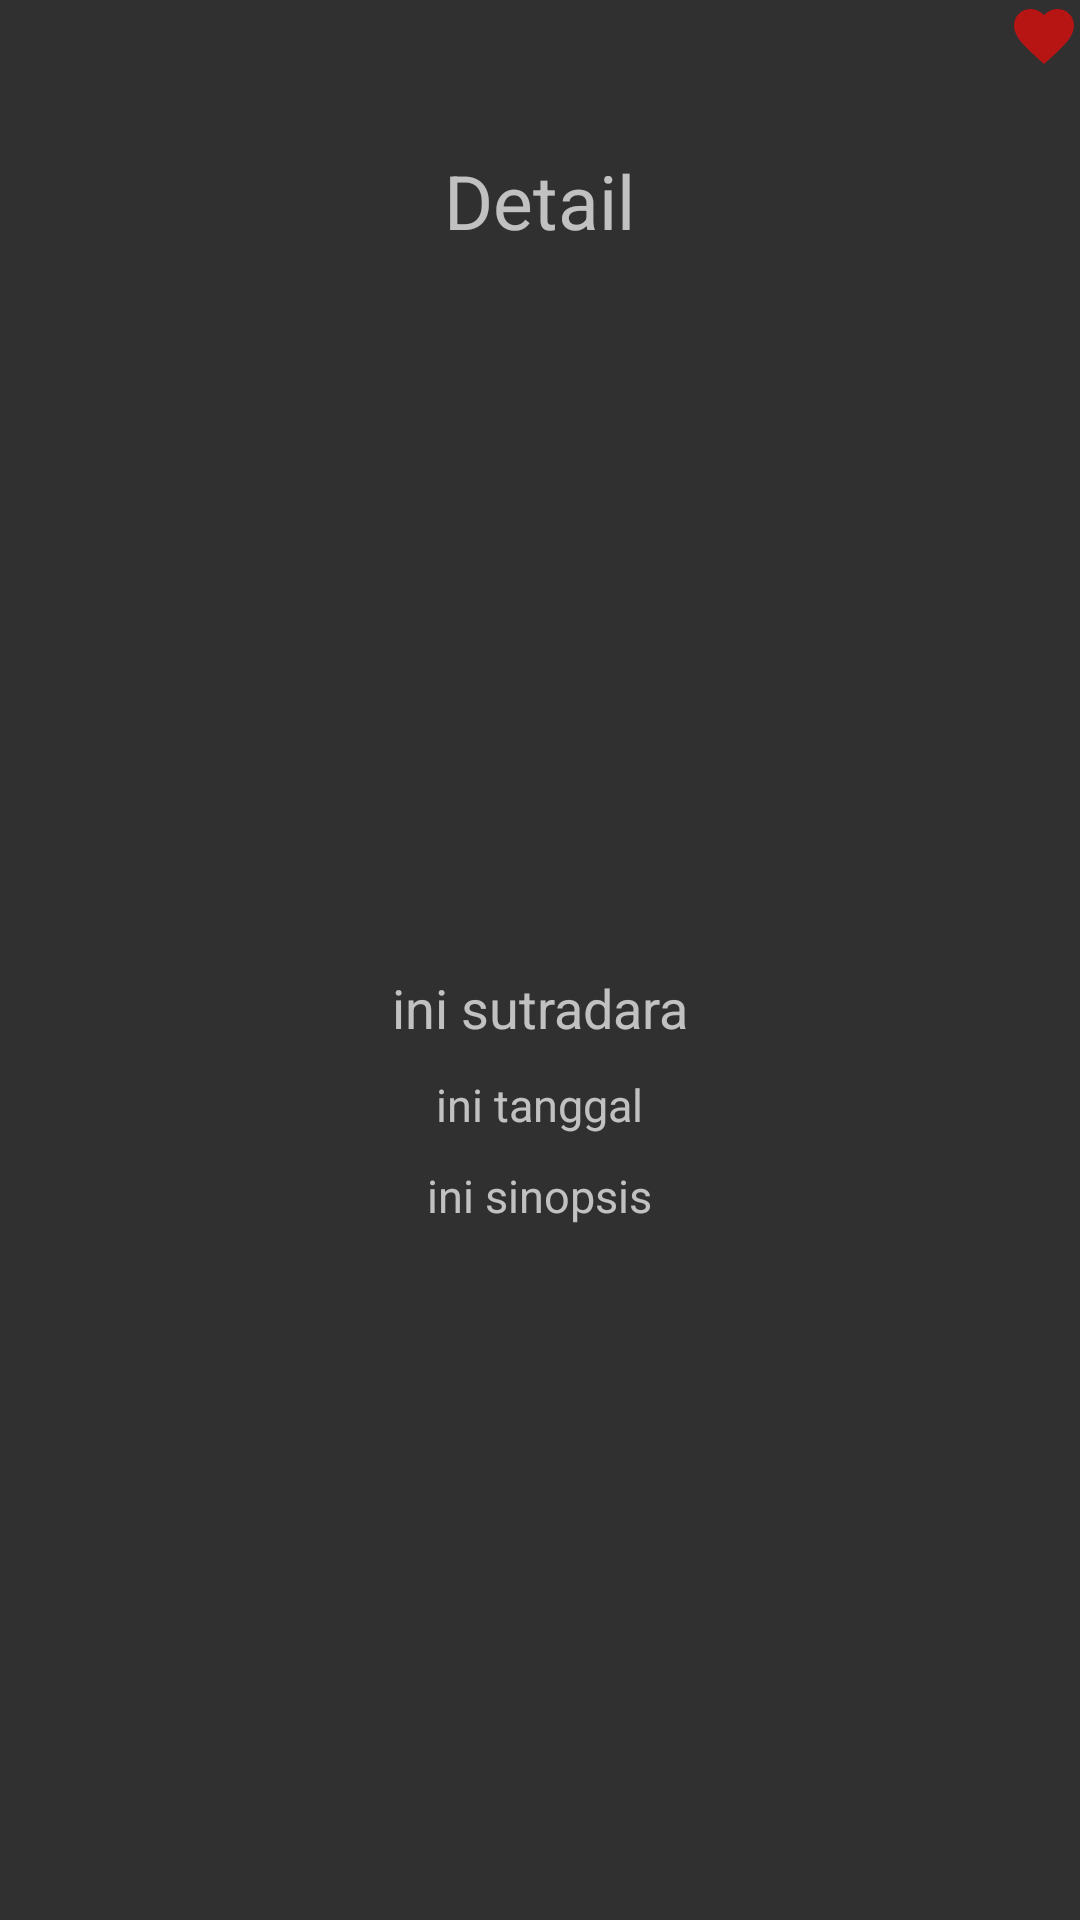

Where to tap for icons on this 1080×1920 app screen, as (x=x, y=y):
favorite: (x=1044, y=36)
